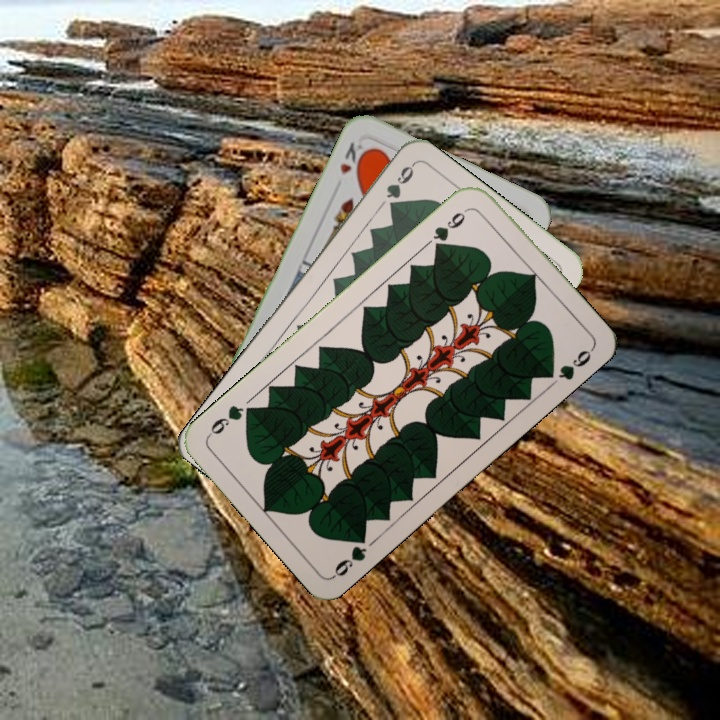G9: (329, 528, 370, 581), (429, 204, 472, 254), (382, 160, 417, 202)
HK: (335, 138, 370, 177)
